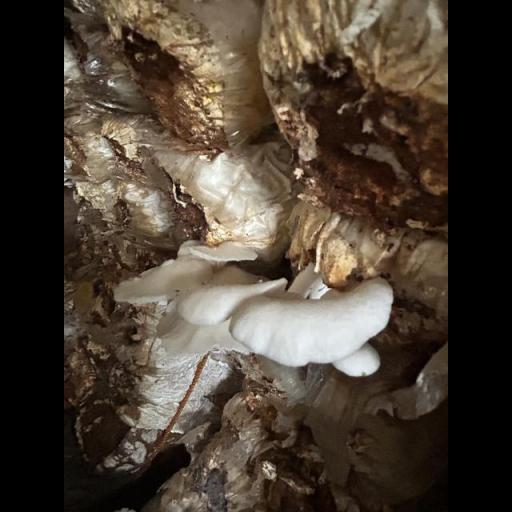White Oyster Mushroom: (110, 246, 413, 392)
